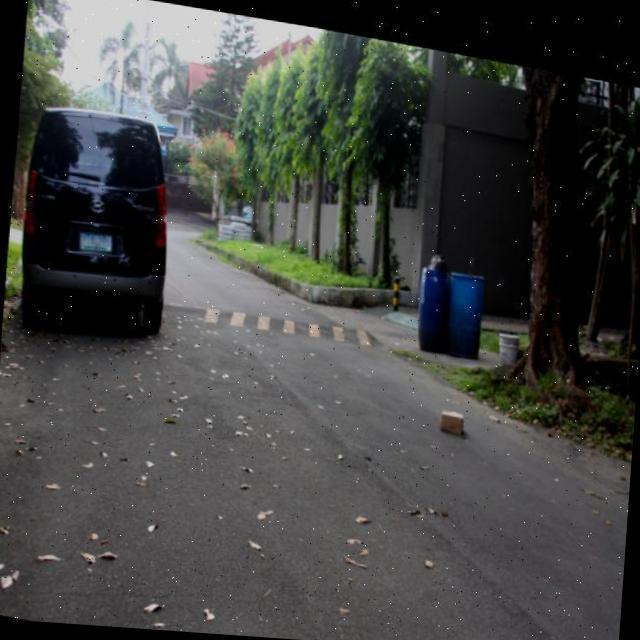Paper_Bag: (438, 399, 463, 426)
